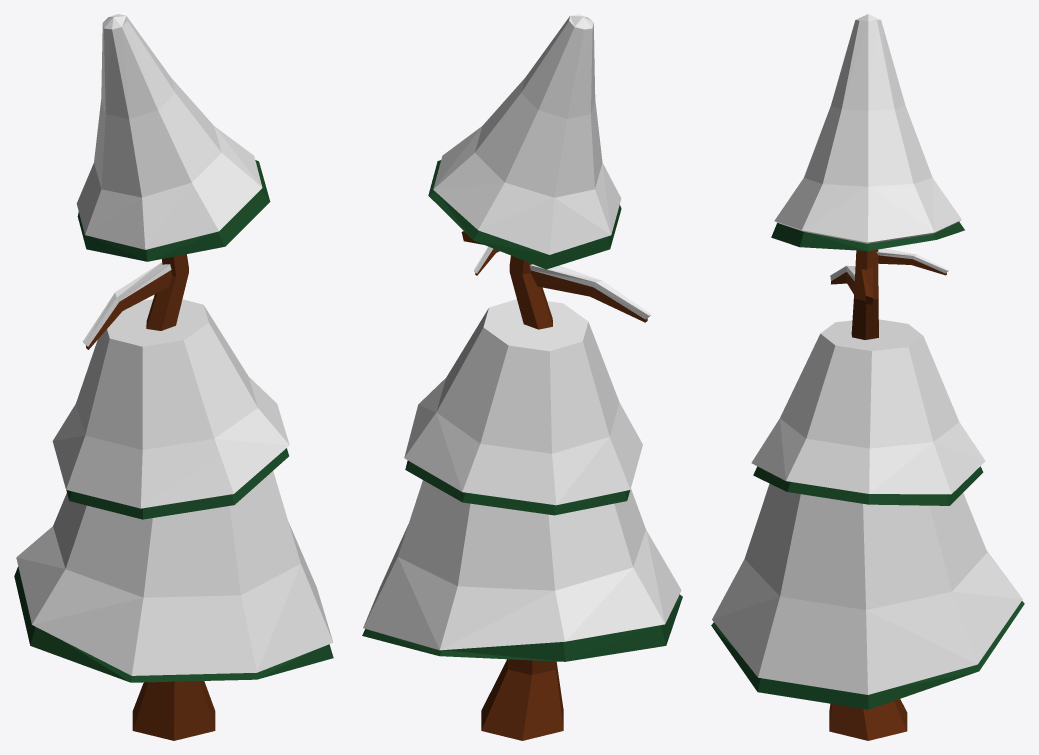
Rendered from WinterTree4.glb.
3 renders of one model, left to right at view 1: azimuth 30°, elevation 25°; view 2: azimuth 150°, elevation 25°; view 3: azimuth 270°, elevation 25°, orthographic. The views are drawn at different scales.
Visible parts, largest first — view 1: Tree_Winter_014; view 2: Tree_Winter_014; view 3: Tree_Winter_014.
Boxes of the visible parts, x1,y1,x2,y2 form: Tree_Winter_014: [14, 14, 333, 740]; Tree_Winter_014: [362, 14, 682, 740]; Tree_Winter_014: [711, 14, 1024, 740].
Size of the model in its own units: 3.34 by 7.98 by 3.34.
Materials: 1 (1 with a texture image).
